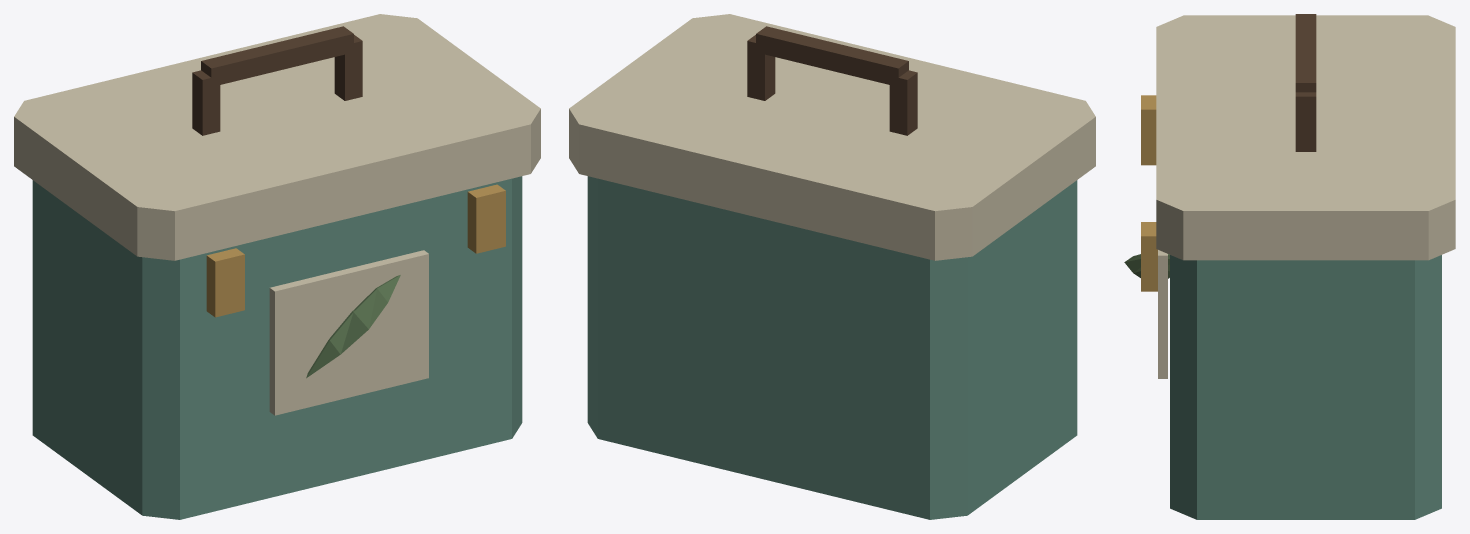
Rendered from first_aid_box.glb.
3 views of the same model, side by side, from view 1: azimuth 30°, elevation 25°; view 2: azimuth 150°, elevation 25°; view 3: azimuth 270°, elevation 25° (orthographic).
Parts seen in each view (by area): view 1: geometry; view 2: geometry; view 3: geometry.
Part boxes in pixels (x1,y1,x2,y2): geometry: (14, 14, 540, 519); geometry: (569, 14, 1095, 519); geometry: (1124, 14, 1455, 519).
Bounding box in the file's own units: 0.68 × 0.615 × 0.487.
